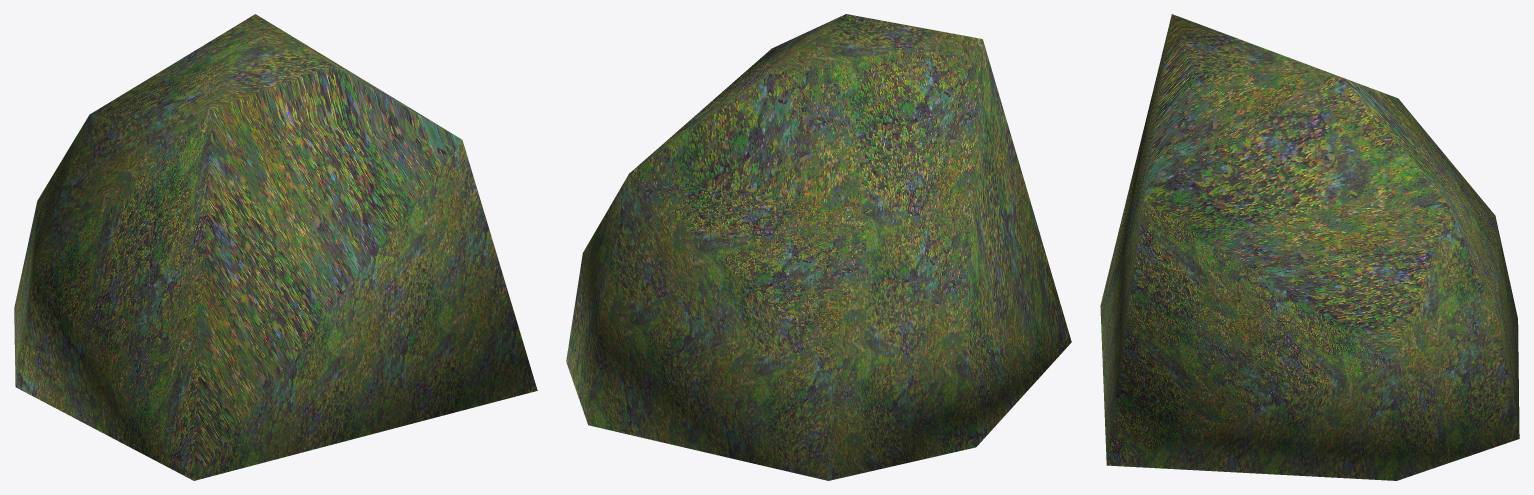
Rendered from rock_mossy_big_l3.fbx.
The picture shows the model from 3 angles, left to right: view 1: azimuth 30°, elevation 25°; view 2: azimuth 150°, elevation 25°; view 3: azimuth 270°, elevation 25°; orthographic projection. The views are drawn at different scales.
Visible parts, largest first — view 1: mesh_node; view 2: mesh_node; view 3: mesh_node.
Boxes of the visible parts, box(x1,y1,x2,y2) form: mesh_node: box(14, 14, 537, 480); mesh_node: box(566, 14, 1071, 480); mesh_node: box(1100, 14, 1519, 480).
Bounding box in the file's own units: 6.24 × 4.8 × 5.69.
